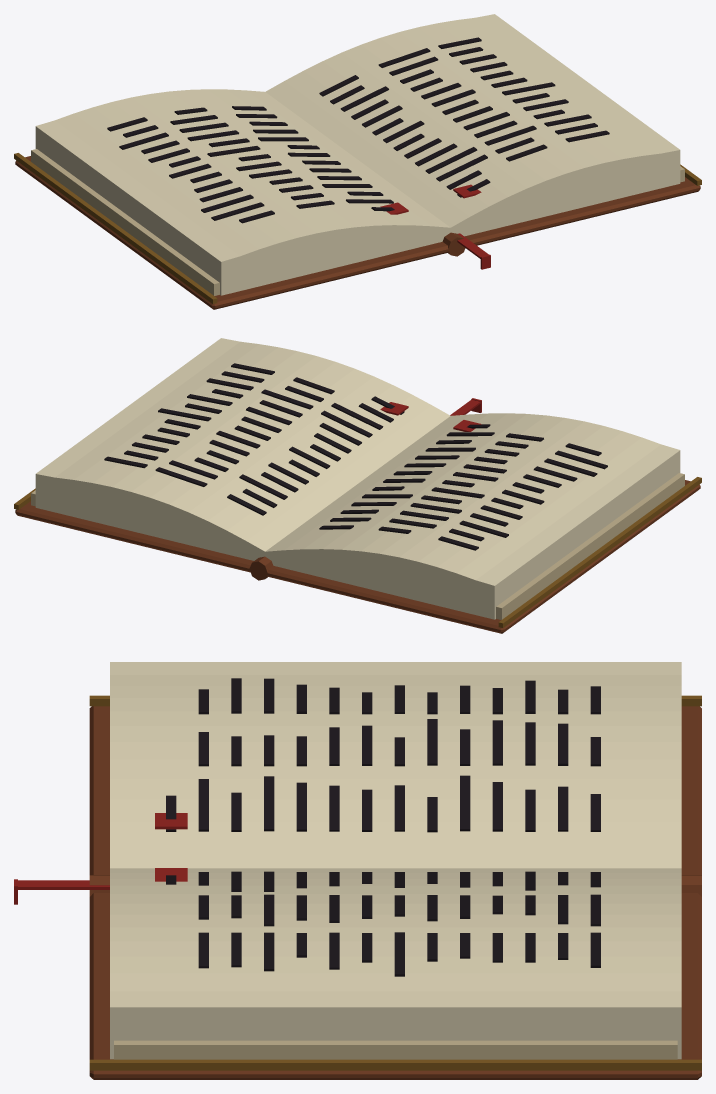
File: open_book.obj
The picture shows the model from 3 angles, top to bottom: view 1: azimuth 30°, elevation 25°; view 2: azimuth 150°, elevation 25°; view 3: azimuth 270°, elevation 25°; orthographic projection. The views are drawn at different scales.
Visible parts, largest first — view 1: prism.001, prism, box.001, box, box.045, box.002; view 2: prism.001, prism, box.001, box, box.045, box.002; view 3: prism, prism.001, box.045, box.044, box.046, box.001, box.088, lathe.
Boxes of the visible parts, x1=… form: prism.001: x1=265, y1=14, x2=680, y2=236; prism: x1=35, y1=89, x2=450, y2=295; box.001: x1=15, y1=156, x2=460, y2=309; box: x1=31, y1=149, x2=219, y2=295; box.045: x1=454, y1=177, x2=700, y2=248; box.002: x1=14, y1=153, x2=217, y2=303; prism.001: x1=35, y1=338, x2=450, y2=560; prism: x1=265, y1=413, x2=680, y2=619; box.001: x1=255, y1=480, x2=700, y2=633; box: x1=496, y1=473, x2=684, y2=619; box.045: x1=15, y1=501, x2=261, y2=573; box.002: x1=498, y1=477, x2=701, y2=627; prism: x1=110, y1=662, x2=681, y2=868; prism.001: x1=110, y1=868, x2=681, y2=1059; box.045: x1=89, y1=893, x2=701, y2=1079; box.044: x1=114, y1=1040, x2=677, y2=1059; box.046: x1=89, y1=1059, x2=701, y2=1070; box.001: x1=89, y1=706, x2=701, y2=874; box.088: x1=18, y1=880, x2=109, y2=889; lathe: x1=89, y1=875, x2=701, y2=896.
Size of the model in its own units: 0.426 by 0.045 by 0.337.
